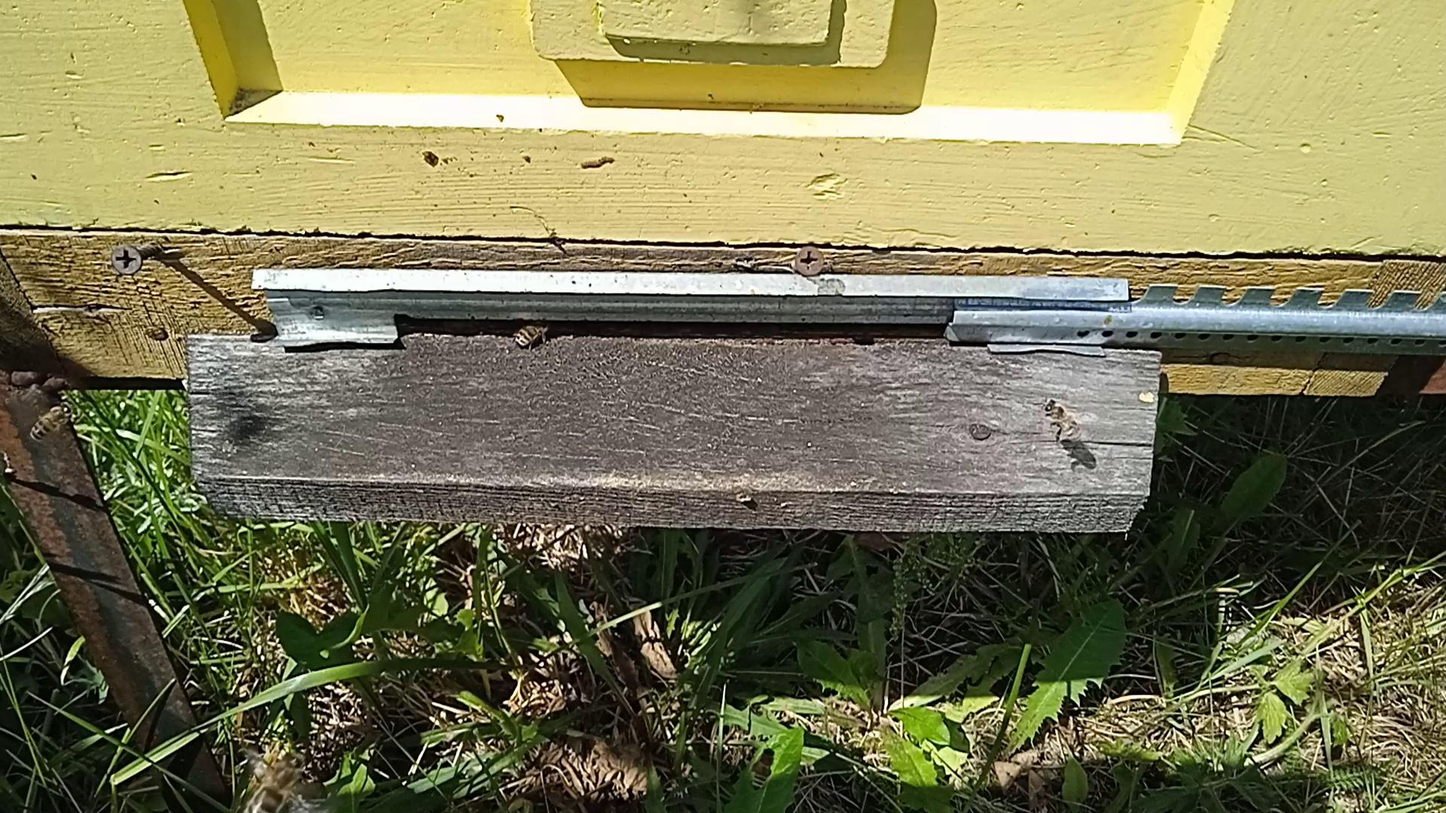worker-bee: (247, 750, 310, 813), (1040, 395, 1081, 442), (29, 401, 71, 440), (749, 744, 777, 790), (512, 320, 553, 348)
